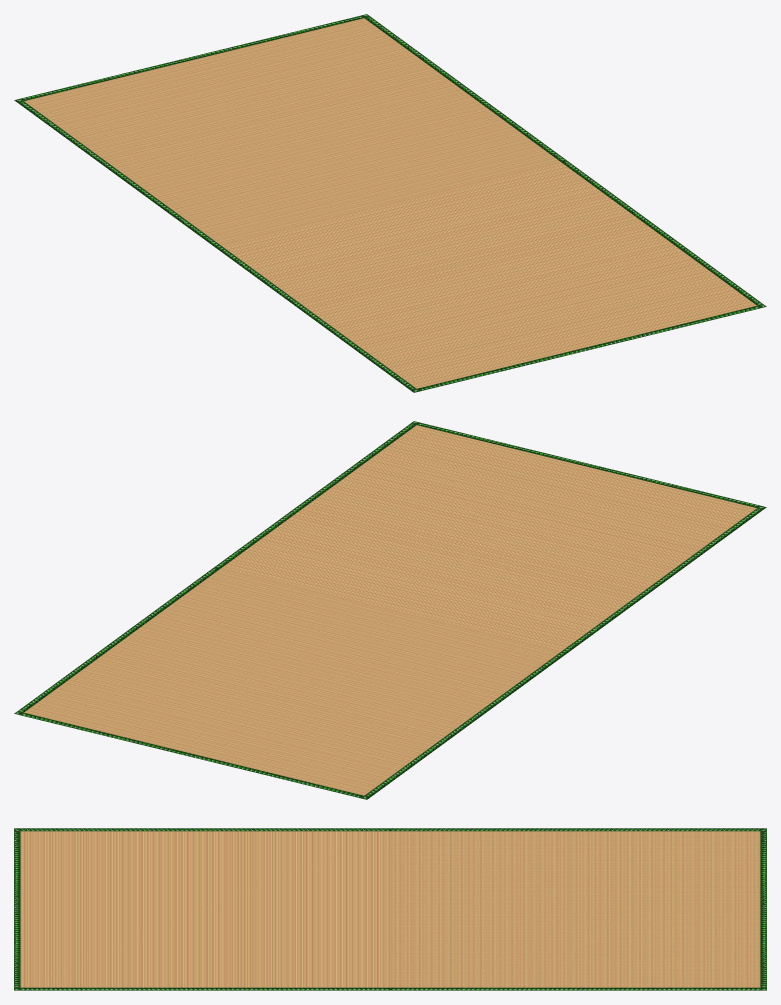
The model's file is Tatami2x1_Low.fbx.
3 renders of one model, top to bottom at view 1: azimuth 30°, elevation 25°; view 2: azimuth 150°, elevation 25°; view 3: azimuth 270°, elevation 25°, orthographic. The views are drawn at different scales.
Parts seen in each view (by area): view 1: TATAMI_1x2; view 2: TATAMI_1x2; view 3: TATAMI_1x2.
Boxes of the visible parts, x1,y1,x2,y2 form: TATAMI_1x2: (14, 14, 766, 392); TATAMI_1x2: (14, 421, 766, 799); TATAMI_1x2: (14, 828, 766, 990).
Bounding box in the file's own units: 89.05 × 0.00619 × 175.
Materials: 1 (1 with a texture image).
